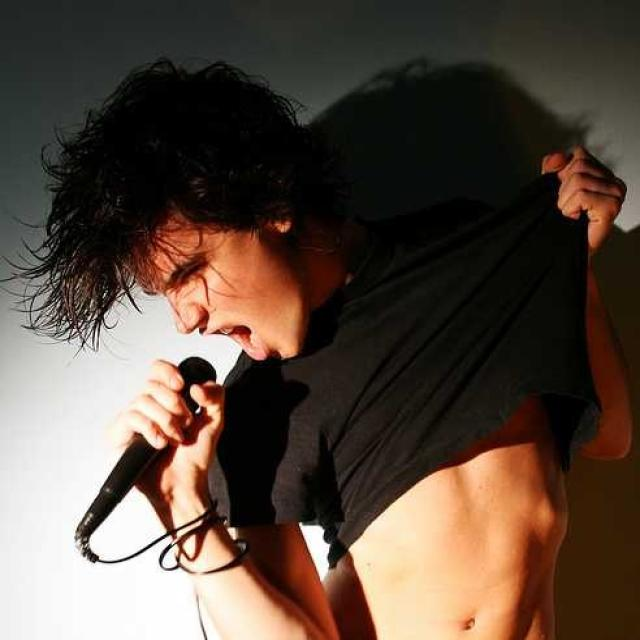microphone: (74, 354, 220, 554)
